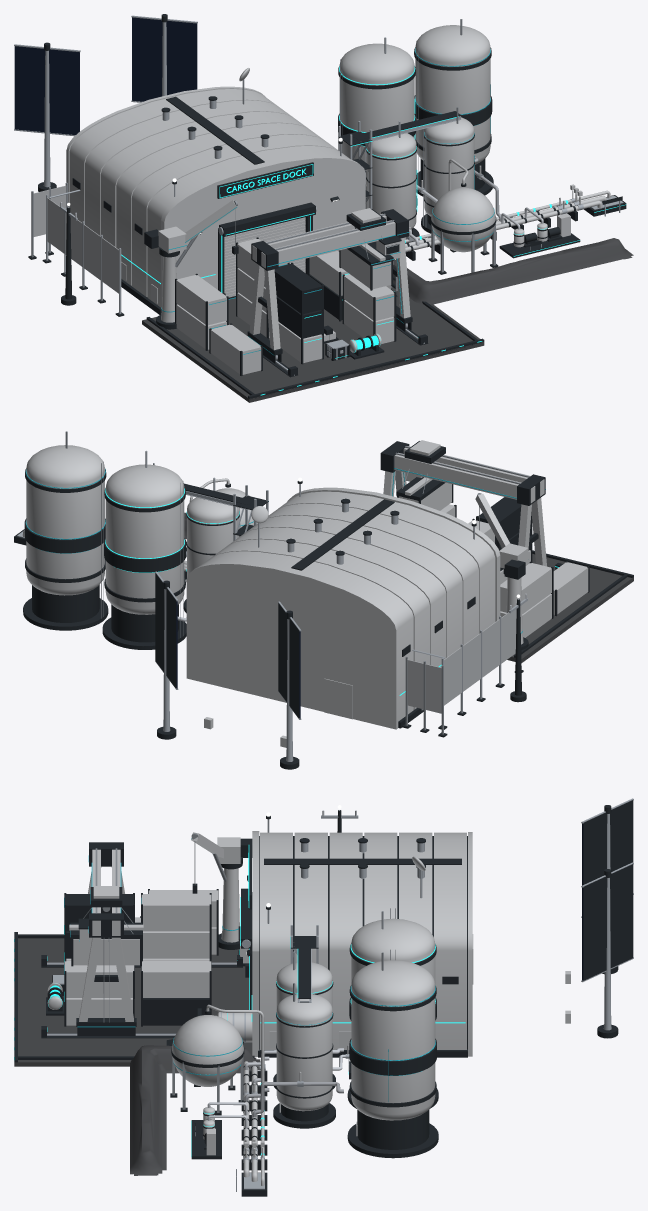
File: dock_tankfarm_game.glb
The picture shows the model from 3 angles, top to bottom: view 1: azimuth 30°, elevation 25°; view 2: azimuth 150°, elevation 25°; view 3: azimuth 270°, elevation 25°; orthographic projection. The views are drawn at different scales.
Parts seen in each view (by area): view 1: Base_Paint, Tier_20, Crane_Gantry, Base_Metal, Tier_12, Tier_03, Tier_05, Tier_08, Base_GlowCyan, Dock_Door; view 2: Base_Paint, Tier_20, Crane_Gantry, Base_Metal, Tier_08, Tier_03, Tier_12; view 3: Base_Paint, Tier_20, Crane_Gantry, Tier_05, Tier_03, Tier_12, Base_Metal, Tier_08, Base_GlowCyan.
Part boxes in pixels (left/top/right/bottom): Base_Paint: left=14, top=14, right=633, bottom=402; Tier_20: left=28, top=19, right=501, bottom=375; Crane_Gantry: left=247, top=208, right=412, bottom=363; Base_Metal: left=14, top=15, right=623, bottom=375; Tier_12: left=428, top=159, right=498, bottom=274; Tier_03: left=236, top=237, right=396, bottom=322; Tier_05: left=421, top=107, right=474, bottom=233; Tier_08: left=144, top=200, right=238, bottom=329; Base_GlowCyan: left=121, top=66, right=626, bottom=395; Dock_Door: left=224, top=217, right=305, bottom=299; Base_Paint: left=14, top=464, right=633, bottom=769; Tier_20: left=23, top=431, right=589, bottom=737; Crane_Gantry: left=380, top=440, right=546, bottom=566; Base_Metal: left=17, top=450, right=527, bottom=761; Tier_08: left=475, top=493, right=528, bottom=649; Tier_03: left=440, top=497, right=532, bottom=547; Tier_12: left=189, top=478, right=257, bottom=536; Base_Paint: left=14, top=800, right=633, bottom=1196; Tier_20: left=135, top=889, right=438, bottom=1158; Crane_Gantry: left=69, top=842, right=143, bottom=1035; Tier_05: left=244, top=983, right=335, bottom=1128; Tier_03: left=64, top=893, right=211, bottom=998; Tier_12: left=170, top=1004, right=264, bottom=1115; Base_Metal: left=47, top=798, right=633, bottom=1191; Tier_08: left=191, top=832, right=252, bottom=949; Base_GlowCyan: left=14, top=845, right=465, bottom=1156.
Size of the model in its own units: 57.66 by 18.12 by 53.19.
